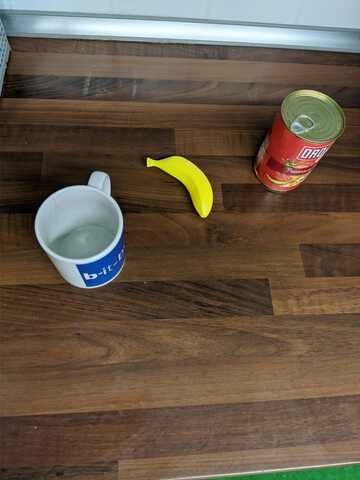005_tomato_soup_can: (249, 84, 349, 196)
011_banana: (141, 148, 220, 222)
025_mug: (30, 168, 132, 292)
